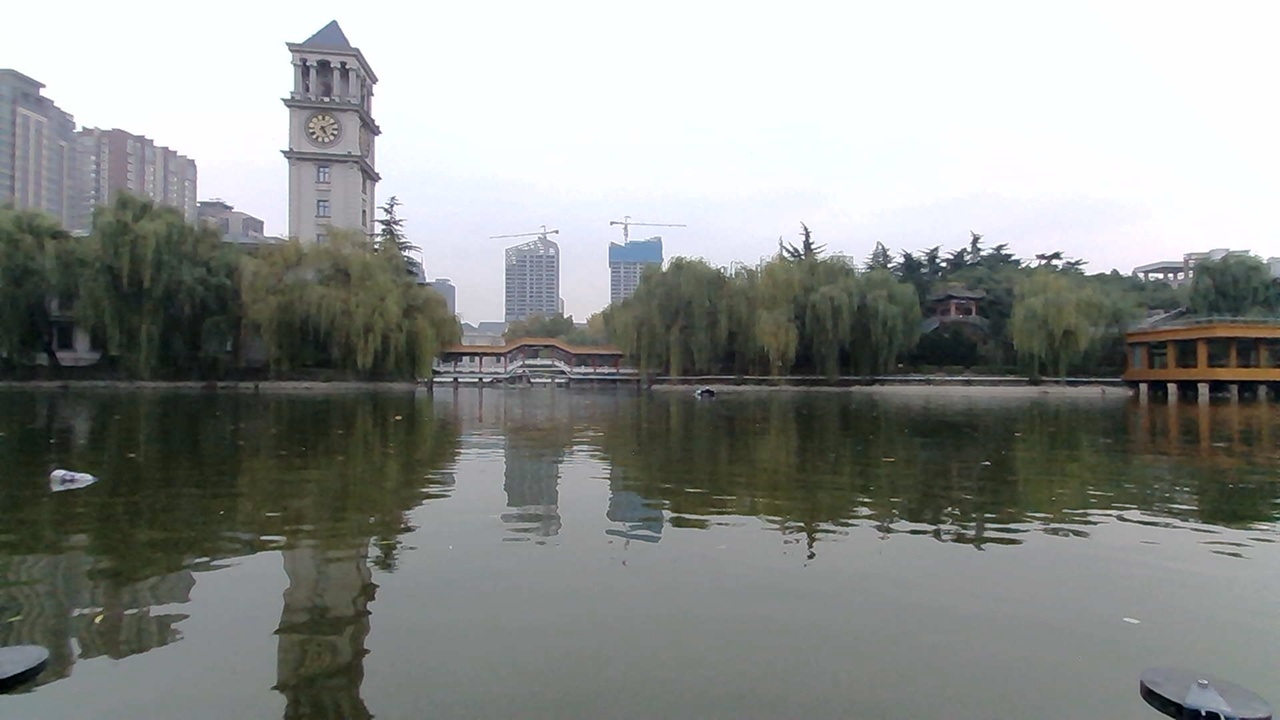bottle: (46, 456, 98, 494)
